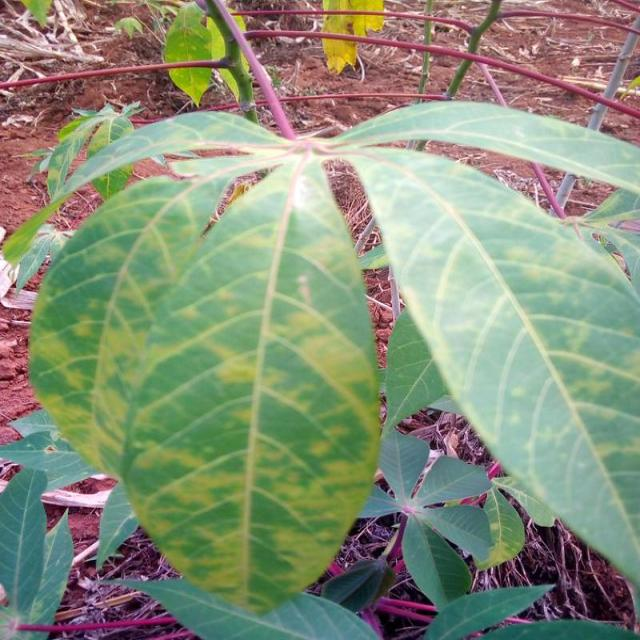cassava leaf: (28, 148, 382, 619), (341, 142, 639, 622)
